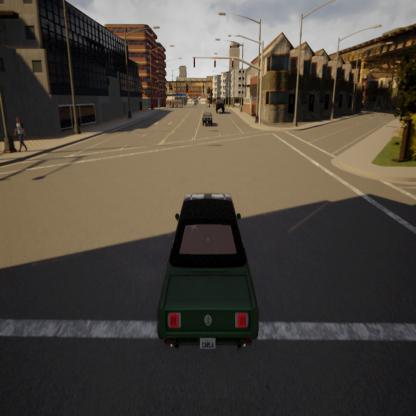Cars: (148, 184, 262, 356), (200, 107, 216, 126), (214, 96, 227, 112)
Pedestrian: (13, 105, 28, 157)
